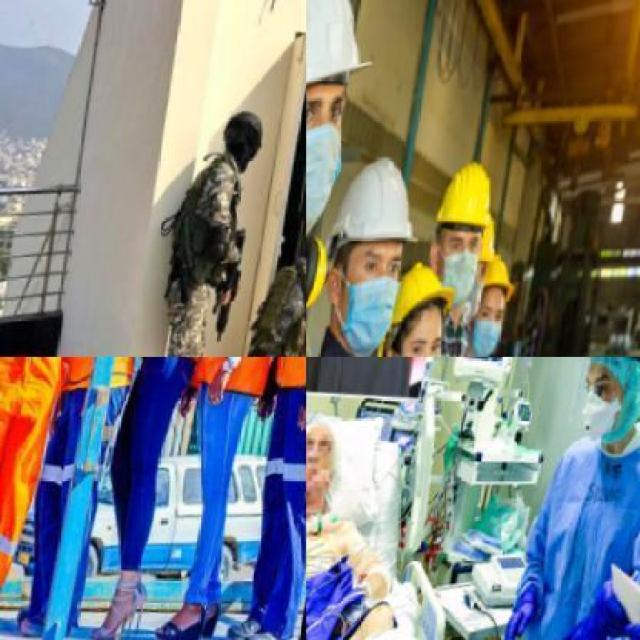Vest: (509, 443, 638, 639), (0, 357, 95, 588), (166, 169, 252, 291), (201, 357, 297, 415), (63, 357, 168, 406), (253, 256, 304, 356)
